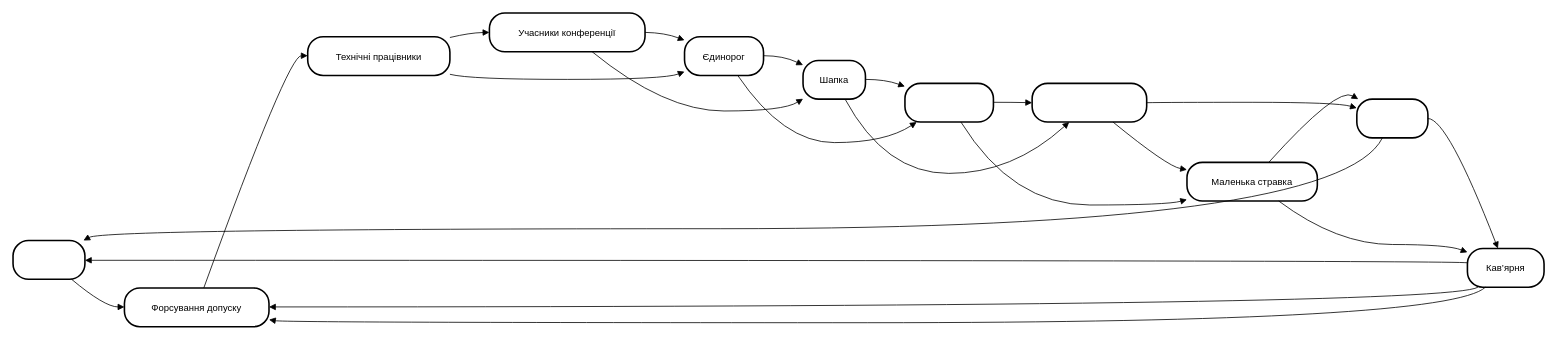
This 1557x340 diagram has some shape labels left out. Here are the shapes that lost their labels. From the top down, the box of each, then its label:
(904, 82, 994, 122): У вихідний
(1031, 82, 1147, 122): Велика стравка
(1356, 98, 1428, 138): Сосиски
(12, 239, 85, 280): Виручка
